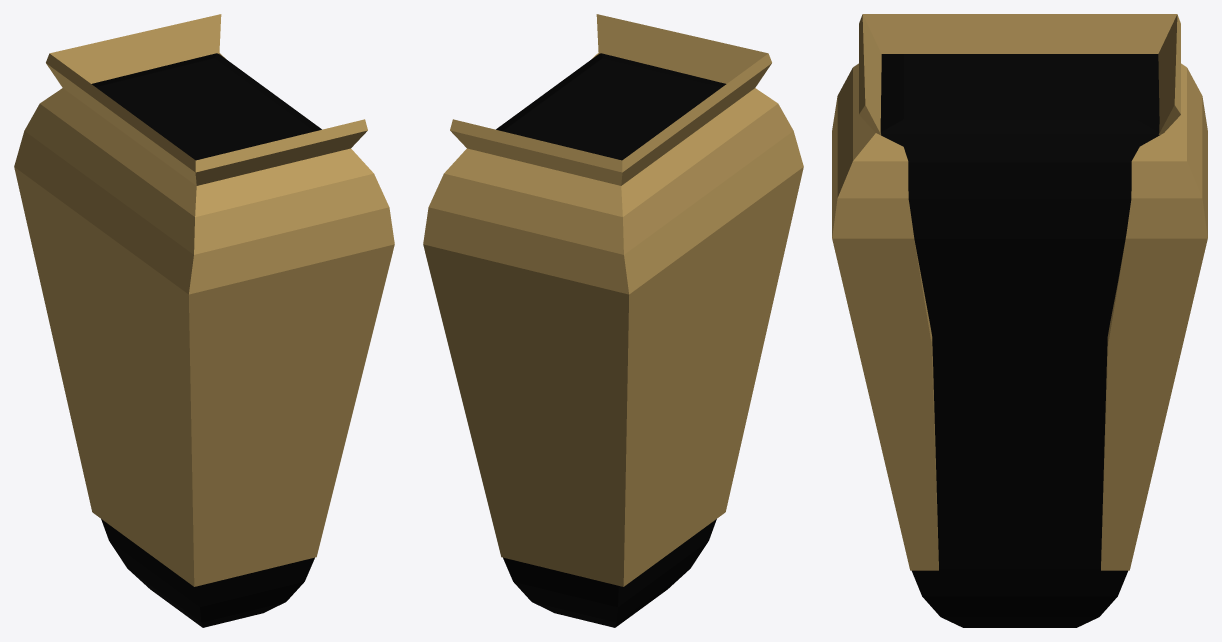
File: Body.fbx
The picture shows the model from 3 angles, left to right: view 1: azimuth 30°, elevation 25°; view 2: azimuth 150°, elevation 25°; view 3: azimuth 270°, elevation 25°; orthographic projection. The views are drawn at different scales.
Parts seen in each view (by area): view 1: Cube.001, Cube; view 2: Cube.001, Cube; view 3: Cube, Cube.001.
Part boxes in pixels (x1,y1,x2,y2): Cube.001: (14, 14, 394, 586); Cube: (91, 53, 321, 627); Cube.001: (423, 14, 803, 586); Cube: (496, 53, 726, 627); Cube: (880, 54, 1159, 627); Cube.001: (832, 14, 1207, 570).
Size of the model in its own units: 87.27 by 211 by 128.
